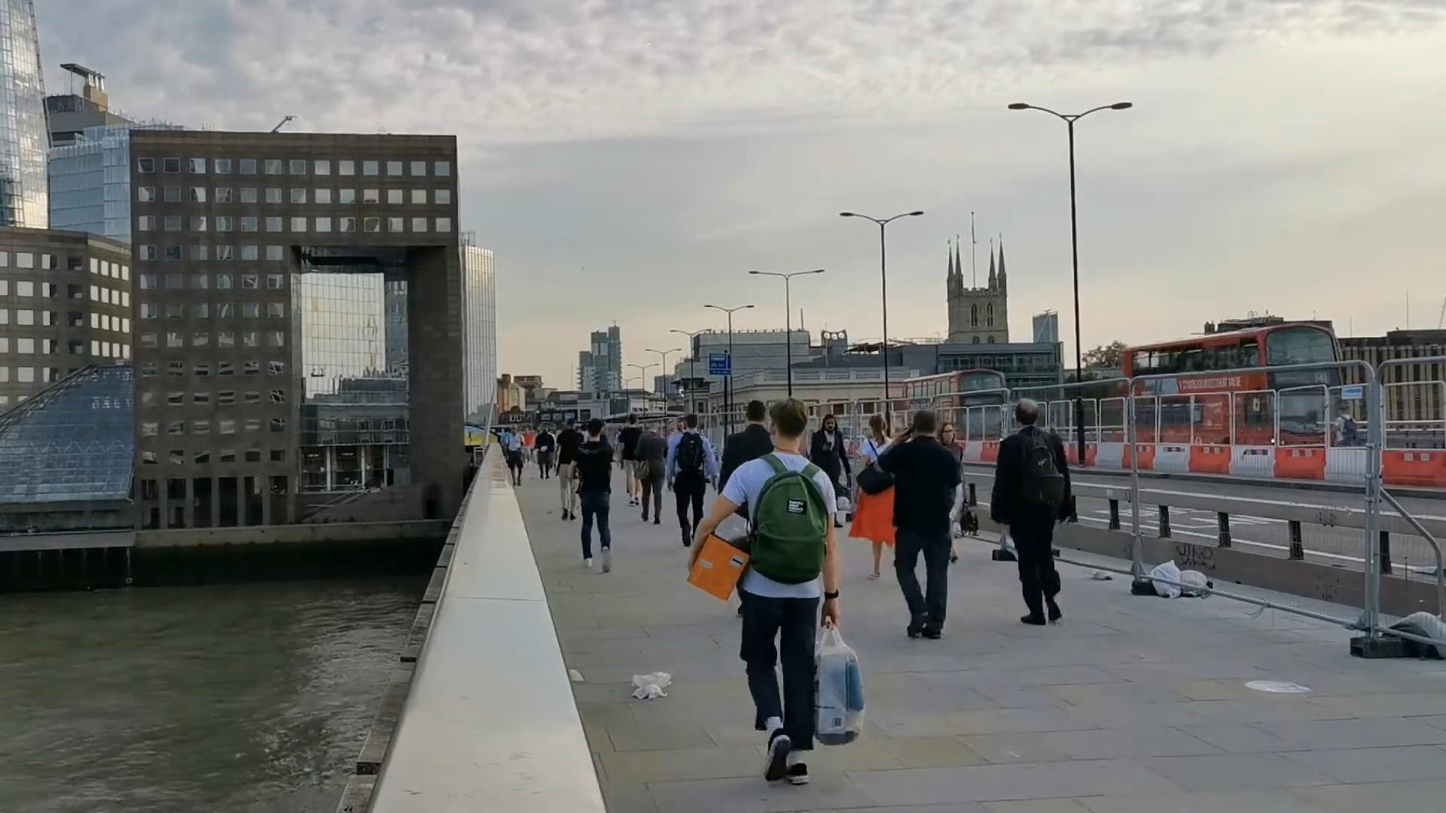no-helmet: (768, 396, 808, 450), (1014, 396, 1040, 428), (911, 409, 938, 439), (744, 399, 767, 429), (869, 413, 888, 441), (939, 421, 956, 447), (822, 413, 839, 435), (588, 418, 603, 438), (684, 413, 698, 430)
